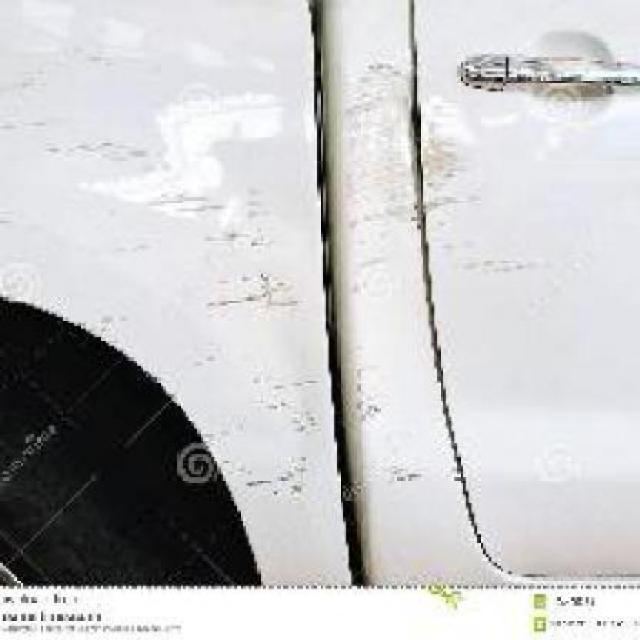dent-or-scratch: (28, 71, 276, 337), (331, 54, 418, 232)
